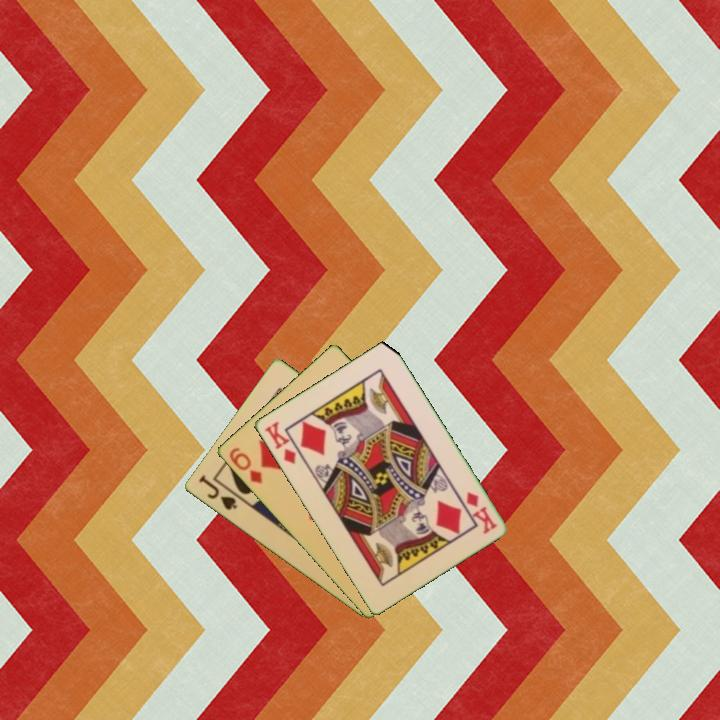6d: (225, 444, 265, 487)
Js: (195, 472, 240, 513)
Kd: (260, 417, 299, 467), (462, 488, 500, 536)
